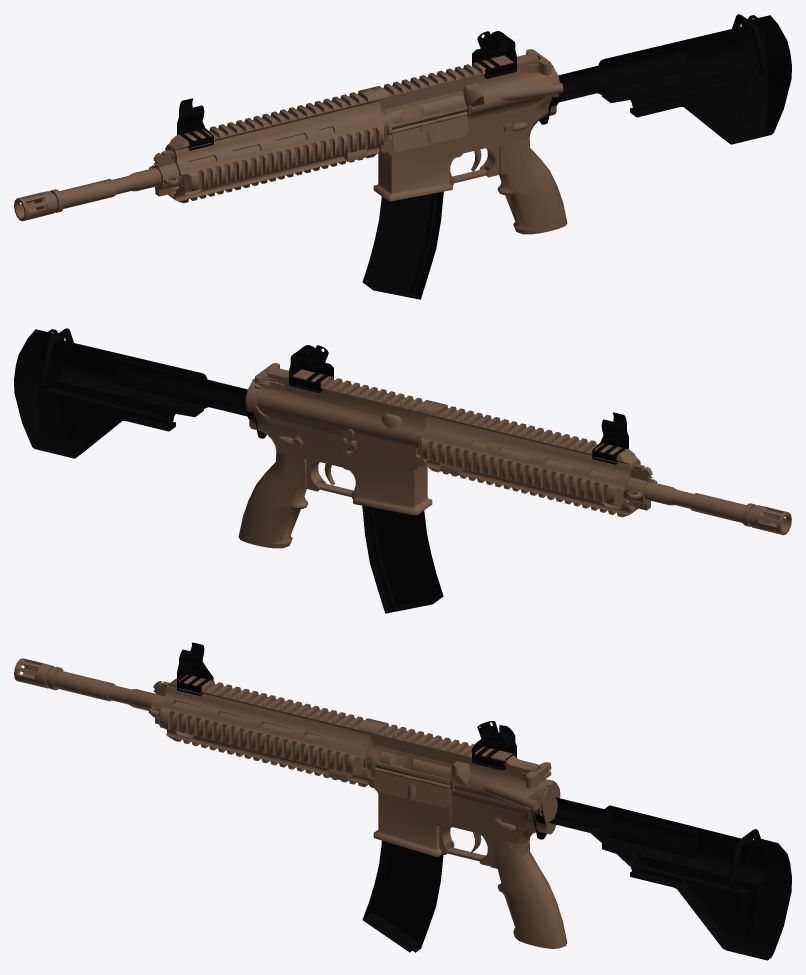
The model's file is Silah_3.fbx.
3 renders of one model, top to bottom at view 1: azimuth 30°, elevation 25°; view 2: azimuth 150°, elevation 25°; view 3: azimuth 330°, elevation 25°, orthographic.
Visible parts, largest first — view 1: main; view 2: main; view 3: main.
Part boxes in pixels (<box>): main: <box>14,14,791,299</box>; main: <box>14,328,791,613</box>; main: <box>14,642,791,960</box>.
Size of the model in its own units: 39.25 by 12.25 by 3.19.
